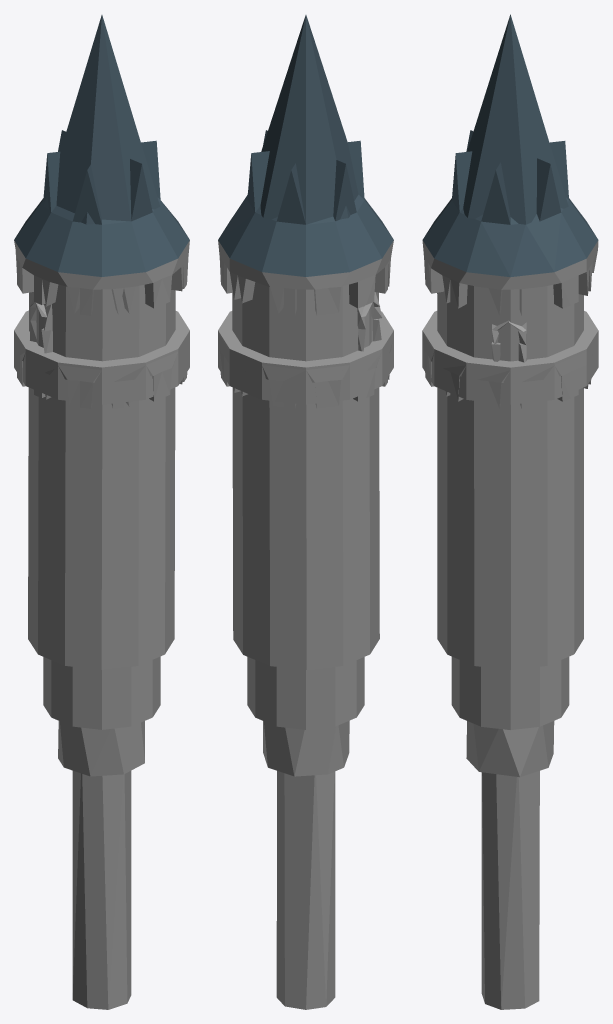
Rendered from LOD1_TallTower.fbx.
3 renders of one model, left to right at view 1: azimuth 30°, elevation 25°; view 2: azimuth 150°, elevation 25°; view 3: azimuth 270°, elevation 25°, orthographic.
Parts seen in each view (by area): view 1: group989038873; view 2: group989038873; view 3: group989038873.
Boxes of the visible parts, left/top/right/bottom form: group989038873: left=14, top=15, right=189, bottom=1009; group989038873: left=218, top=15, right=393, bottom=1009; group989038873: left=422, top=14, right=598, bottom=1009.
Bounding box in the file's own units: 12 × 74 × 12.
